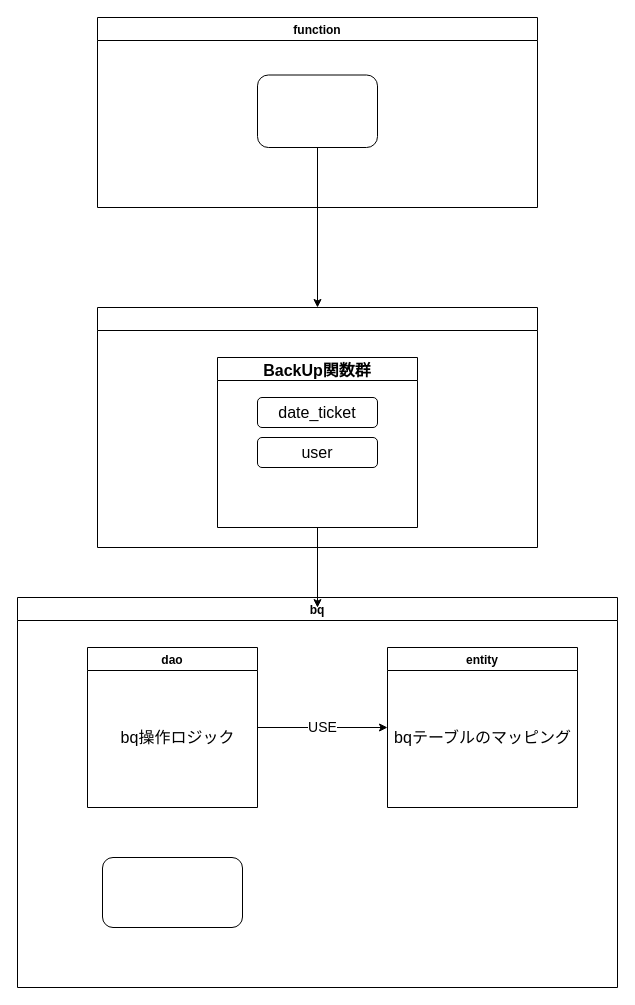
The diagram is 635 pixels wide and 1005 high, and some of its shapes have lost their labels. Here are the shapes that lost their labels. From the top down, the box of each, then its label:
(256, 74, 378, 148): BackUp
(96, 306, 538, 548): bubble2bq
(102, 856, 242, 928): insert
